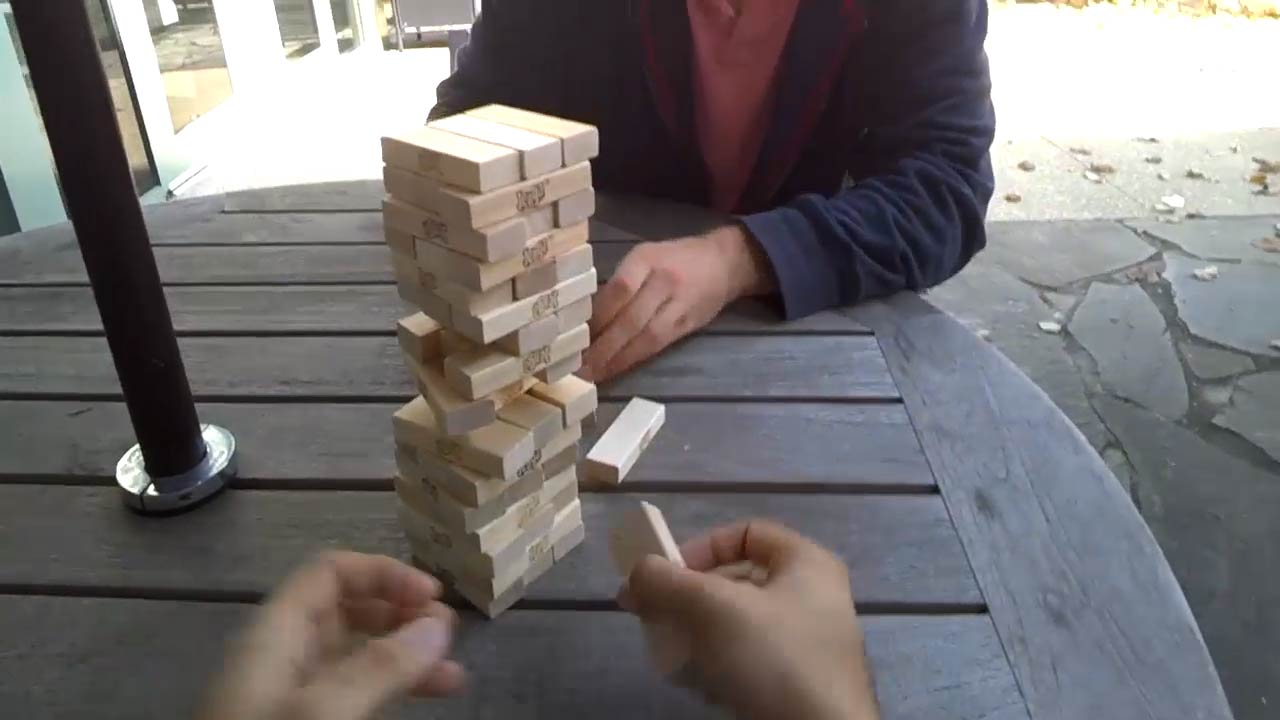hand: (187, 545, 462, 715), (634, 524, 875, 717), (583, 221, 746, 376)
